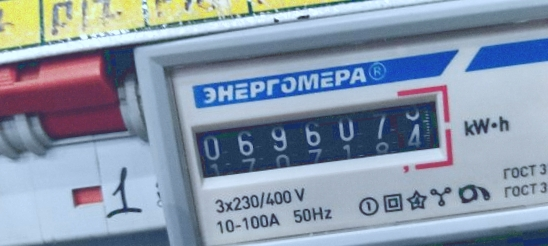0: (335, 112, 357, 144), (202, 132, 222, 162)
4: (404, 119, 424, 150)
6: (235, 127, 256, 157), (303, 117, 323, 148)
7: (369, 109, 392, 142)
9: (268, 123, 289, 153)
screen: (177, 80, 462, 196)
